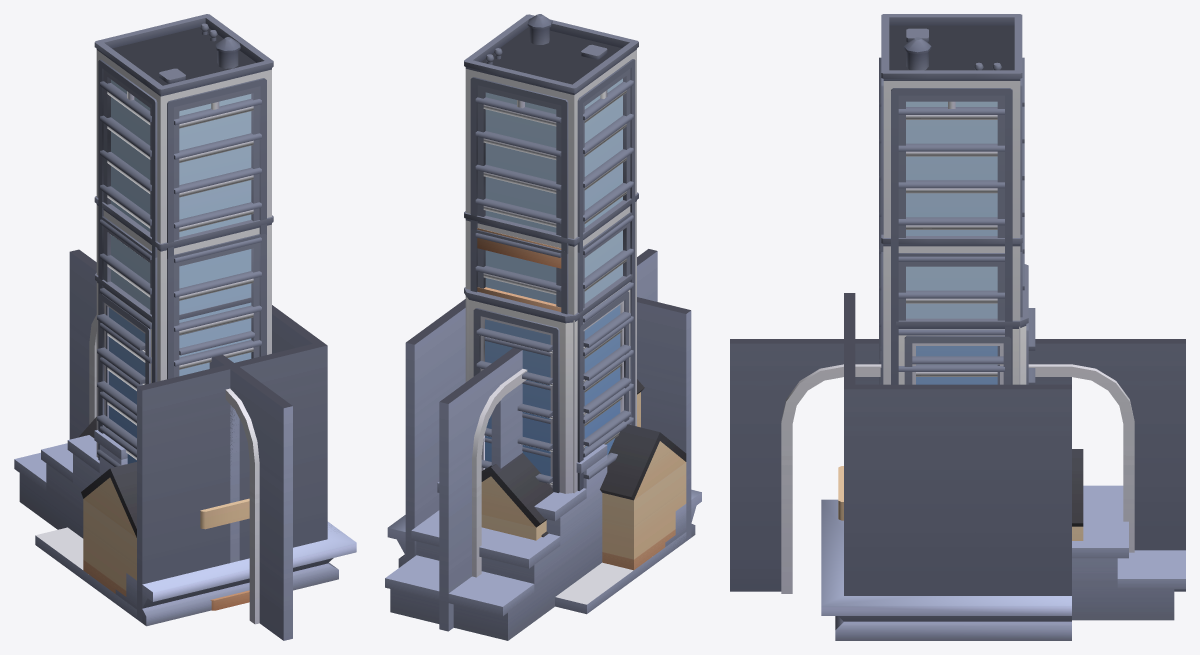
The model's file is world.glb.
3 renders of one model, left to right at view 1: azimuth 30°, elevation 25°; view 2: azimuth 150°, elevation 25°; view 3: azimuth 270°, elevation 25°, orthographic. The views are drawn at different scales.
Parts seen in each view (by area): view 1: building-skyscraper-d, wall-corner, wall-doorway-wide-round, building-skyscraper-c, roof-flat-corner, building-sample-house-c, building-skyscraper-a, stairs-closed-short, floor, wall, building-sample-house-b; view 2: building-skyscraper-d, building-skyscraper-a, stairs-closed-short, wall-corner, building-skyscraper-c, wall-doorway-wide-round, building-sample-house-c, building-sample-house-b, wall, floor, roof-flat-corner, roof-flat-side (+2 smaller); view 3: wall-corner, wall-doorway-wide-round, building-skyscraper-d, roof-flat-corner, building-skyscraper-c, stairs-closed-short, building-skyscraper-a, building-sample-house-b.
Part boxes in pixels (x1=…): building-skyscraper-d: x1=94, y1=14, x2=273, y2=459; wall-corner: x1=137, y1=305, x2=327, y2=622; wall-doorway-wide-round: x1=69, y1=249, x2=292, y2=640; building-skyscraper-c: x1=94, y1=196, x2=273, y2=459; roof-flat-corner: x1=36, y1=521, x2=356, y2=626; building-sample-house-c: x1=81, y1=462, x2=249, y2=596; building-skyscraper-a: x1=95, y1=273, x2=254, y2=466; stairs-closed-short: x1=14, y1=430, x2=127, y2=538; floor: x1=35, y1=527, x2=136, y2=618; wall: x1=230, y1=405, x2=239, y2=562; building-sample-house-b: x1=78, y1=417, x2=249, y2=610; building-skyscraper-d: x1=464, y1=14, x2=638, y2=490; building-skyscraper-a: x1=464, y1=274, x2=632, y2=493; stairs-closed-short: x1=385, y1=444, x2=607, y2=640; wall-corner: x1=405, y1=297, x2=691, y2=562; building-skyscraper-c: x1=464, y1=192, x2=638, y2=493; wall-doorway-wide-round: x1=439, y1=249, x2=657, y2=631; building-sample-house-c: x1=600, y1=424, x2=686, y2=570; building-sample-house-b: x1=481, y1=379, x2=644, y2=540; wall: x1=491, y1=383, x2=522, y2=468; floor: x1=555, y1=532, x2=685, y2=614; roof-flat-corner: x1=387, y1=489, x2=701, y2=607; roof-flat-side: x1=388, y1=515, x2=686, y2=613; wall-corner: x1=844, y1=293, x2=1071, y2=595; wall-doorway-wide-round: x1=730, y1=339, x2=1185, y2=593; building-skyscraper-d: x1=879, y1=14, x2=1024, y2=384; roof-flat-corner: x1=821, y1=499, x2=1071, y2=640; building-skyscraper-c: x1=879, y1=217, x2=1024, y2=384; stairs-closed-short: x1=1072, y1=485, x2=1185, y2=620; building-skyscraper-a: x1=880, y1=264, x2=1035, y2=384; building-sample-house-b: x1=1072, y1=449, x2=1083, y2=540.
Bounding box in the file's own units: 2.2 × 5.57 × 4.
Materials: 17 (5 with a texture image).
